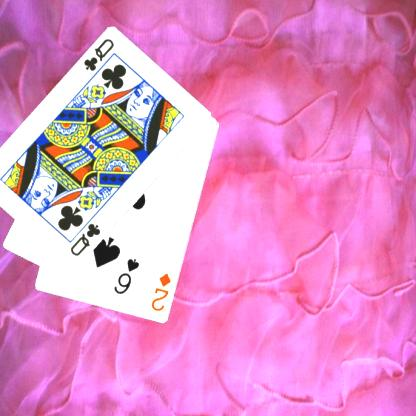2D: (149, 270, 172, 313)
6S: (111, 256, 141, 296)
QC: (80, 36, 116, 73), (67, 220, 102, 258)
